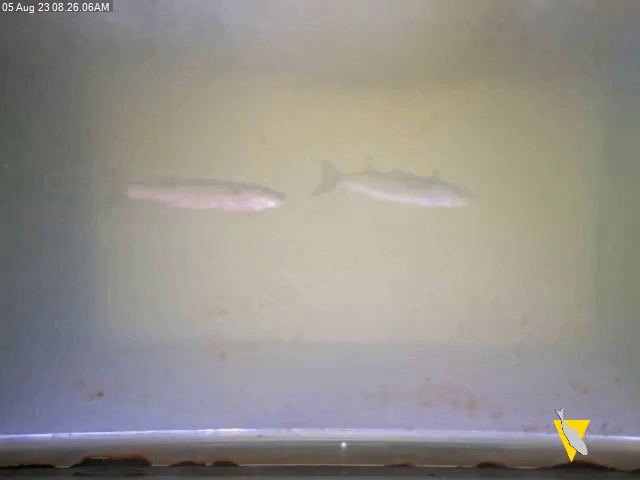\uC22D\uC5B4: (308, 156, 474, 210), (96, 173, 288, 216)
